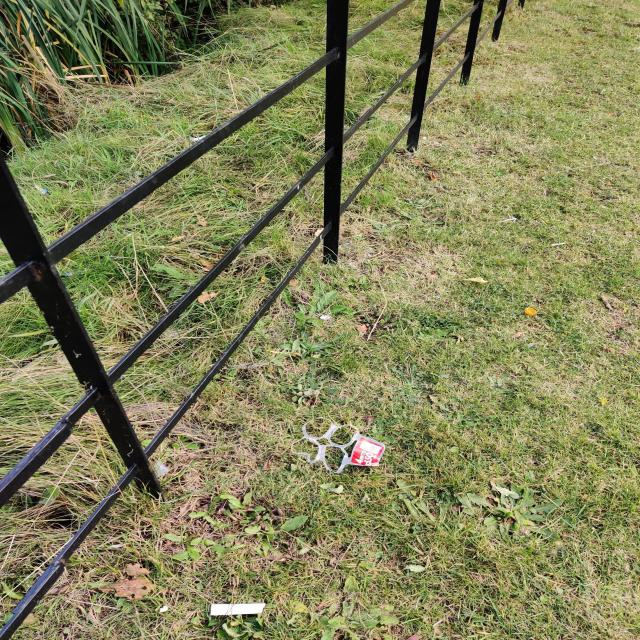litter: (292, 417, 385, 474), (211, 604, 266, 616), (524, 308, 535, 316)
